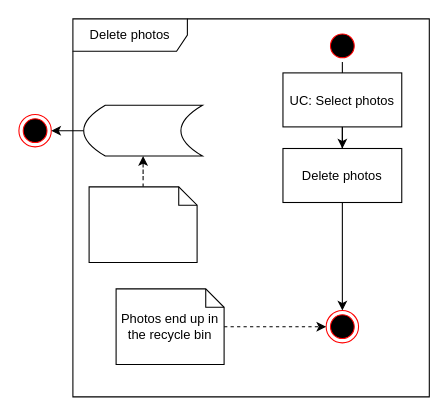
The diagram is 448 pixels wide and 416 high, and some of its shapes have lost their labels. Each missing label, with the centre of its shape:
Cancel: (x=142, y=130)
You can cancel the activity at any time: (x=142, y=224)
